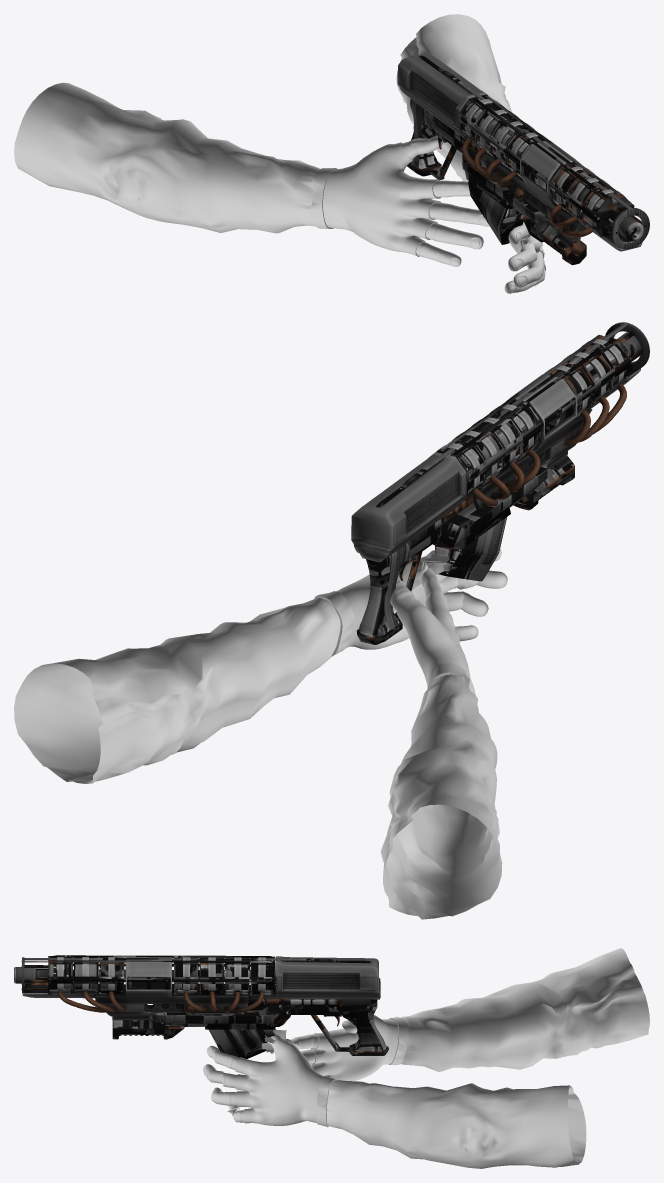
Rendered from handswithgun.FBX.
The picture shows the model from 3 angles, top to bottom: view 1: azimuth 30°, elevation 25°; view 2: azimuth 150°, elevation 25°; view 3: azimuth 270°, elevation 25°; orthographic projection. The views are drawn at different scales.
Visible parts, largest first — view 1: Hands, default; view 2: Hands, default; view 3: Hands, default.
Boxes of the visible parts, x1,y1,x2,y2 form: Hands: (14,14,545,293); default: (397,52,649,265); Hands: (14,549,507,919); default: (351,322,649,644); Hands: (203,948,649,1168); default: (14,955,388,1058).
Size of the model in its own units: 42.6 by 18.57 by 63.94.
